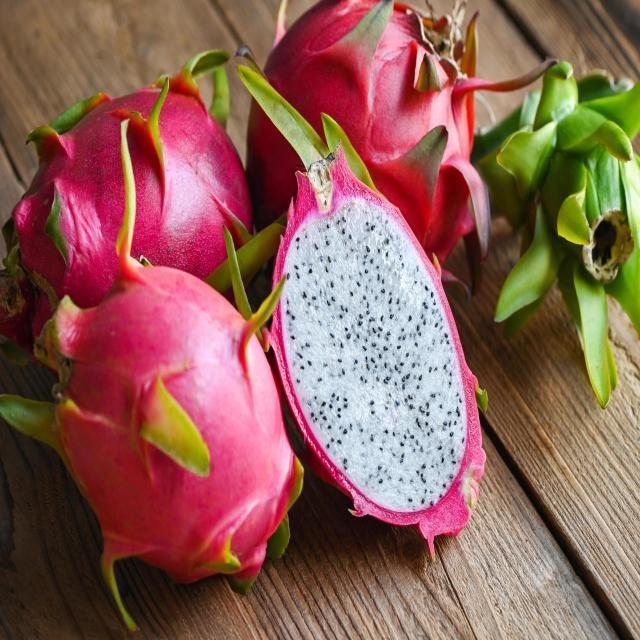dragon-fruit: (270, 180, 484, 526), (58, 264, 292, 579), (16, 86, 256, 351), (244, 0, 472, 267)
